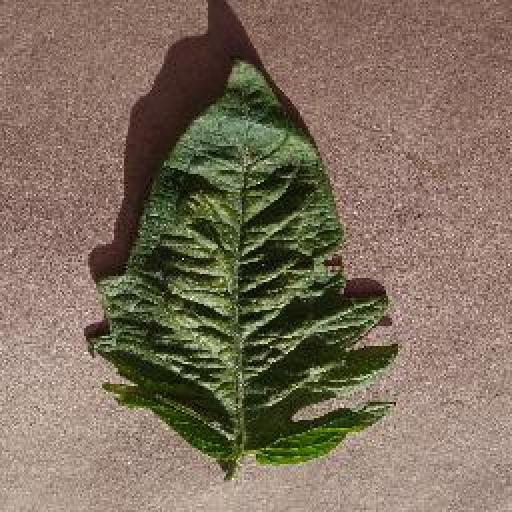disease_tomato: (93, 53, 400, 467)
